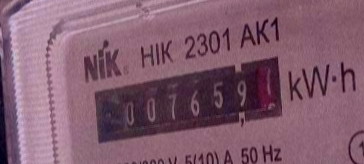0: (123, 96, 137, 124), (144, 94, 158, 121)
1: (262, 65, 274, 96)
5: (210, 78, 226, 110)
6: (188, 85, 202, 116)
7: (165, 87, 180, 120)
9: (234, 74, 250, 108)
screen: (80, 48, 302, 147)
